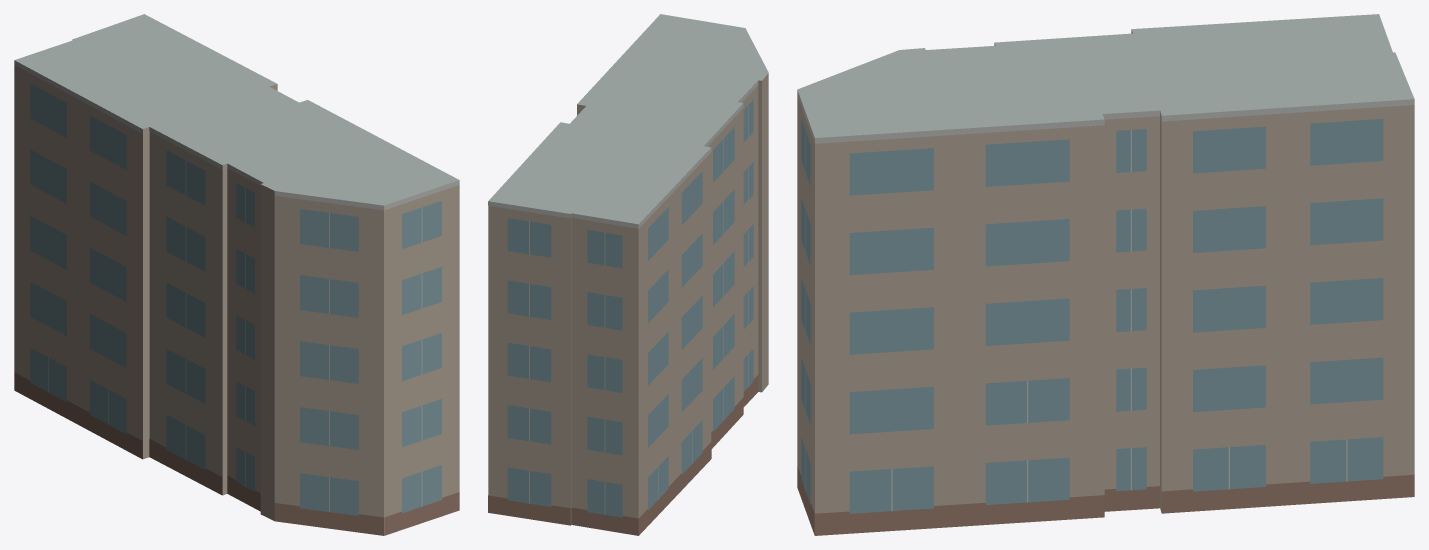
The model's file is survey-upis-32532932.glb.
The picture shows the model from 3 angles, left to right: view 1: azimuth 30°, elevation 25°; view 2: azimuth 150°, elevation 25°; view 3: azimuth 270°, elevation 25°; orthographic projection. The views are drawn at different scales.
Parts seen in each view (by area): view 1: survey-upis-32532932.tmp; view 2: survey-upis-32532932.tmp; view 3: survey-upis-32532932.tmp.
Boxes of the visible parts, x1=… form: survey-upis-32532932.tmp: x1=14, y1=14, x2=459, y2=535; survey-upis-32532932.tmp: x1=488, y1=14, x2=768, y2=535; survey-upis-32532932.tmp: x1=797, y1=14, x2=1414, y2=535.
Bounding box in the file's own units: 11.26 × 16.82 × 23.67.
